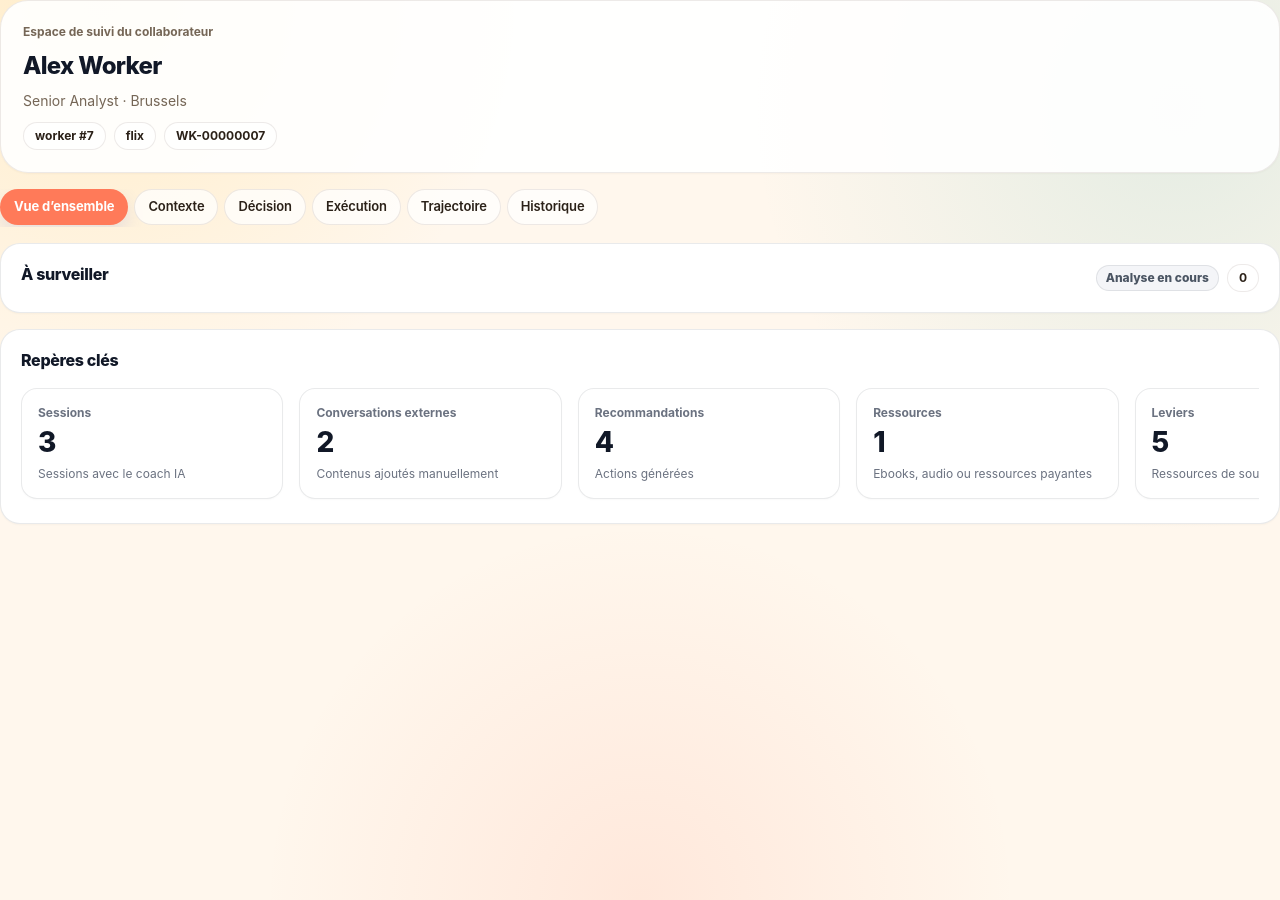
Test: Organization Insights internationalization › moves professional context details out of Overview and into Context
Expected: the text "Clarification du mandat professionnel" is not shown
Expected: the text "Clarification de l’intention professionnelle" is not shown
Click the tab "Contexte".
click(176, 207)  # box 134,189 -> 218,225
(page scrolled)
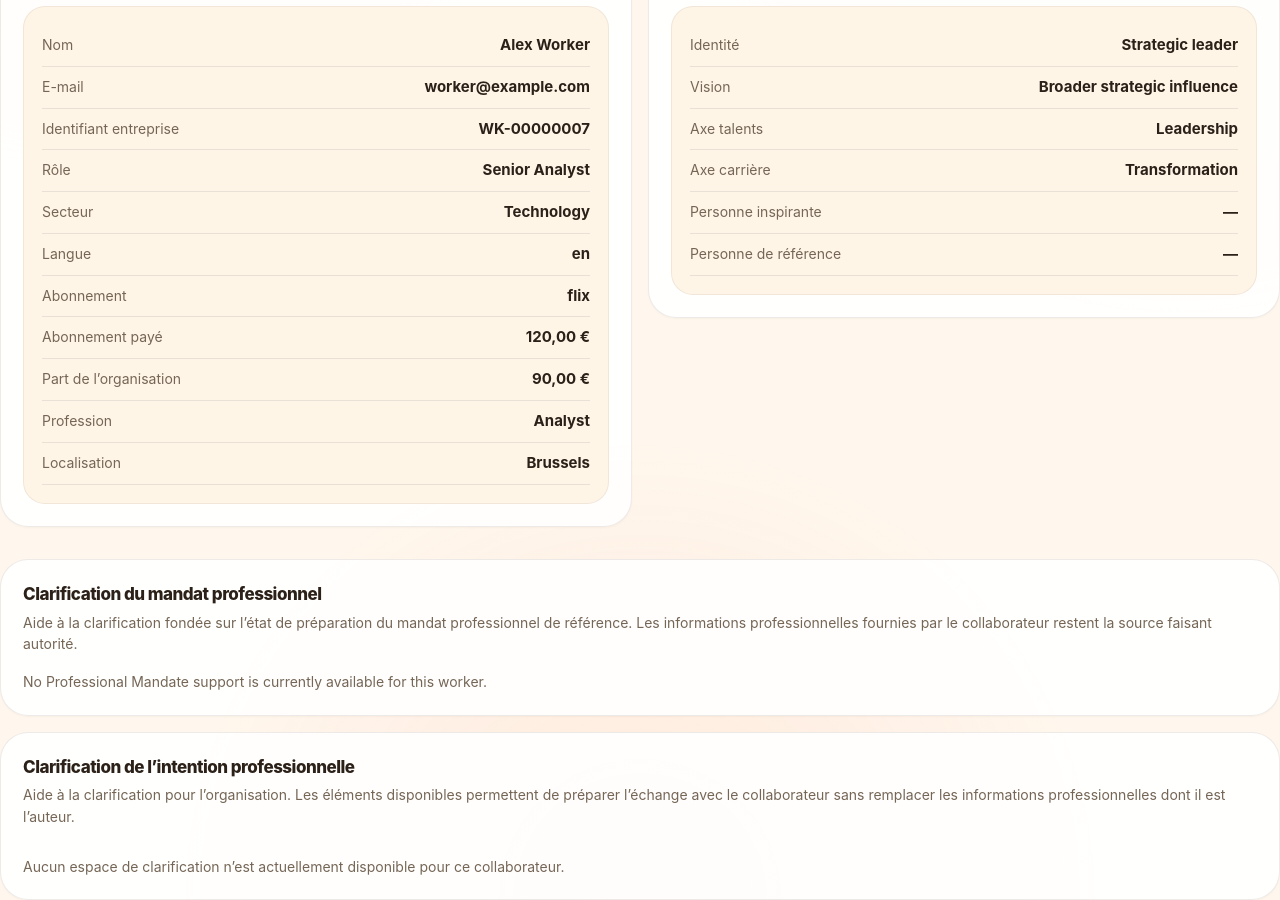
Now the text "Clarification du mandat professionnel" is shown, box 23,584 -> 322,604
Now the text "Clarification de l’intention professionnelle" is shown, box 23,757 -> 354,777
